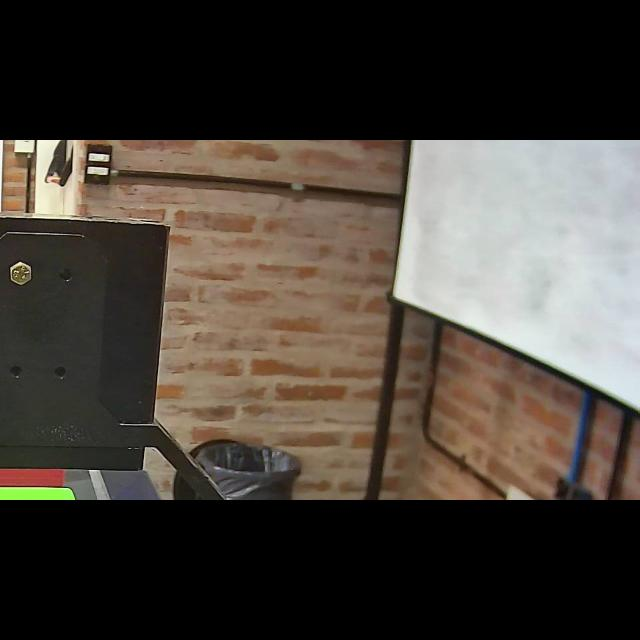greenBox: (0, 482, 96, 500)
redBox: (0, 458, 72, 492)
